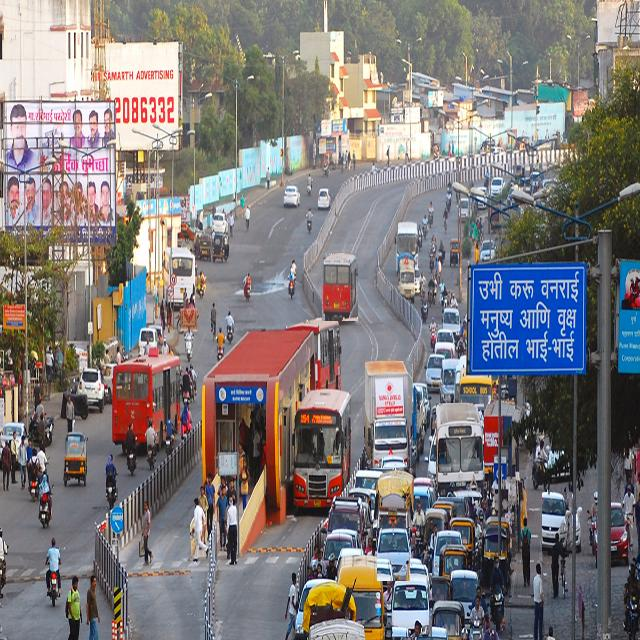accident: (490, 557, 505, 630)
autorickshaw: (450, 516, 476, 569)
bus: (294, 390, 350, 508), (111, 354, 181, 446), (436, 403, 484, 497), (322, 253, 358, 321), (162, 246, 196, 308)
car: (392, 573, 432, 637), (542, 493, 572, 551), (378, 528, 410, 581), (610, 502, 629, 563)
truck: (365, 361, 412, 468)
